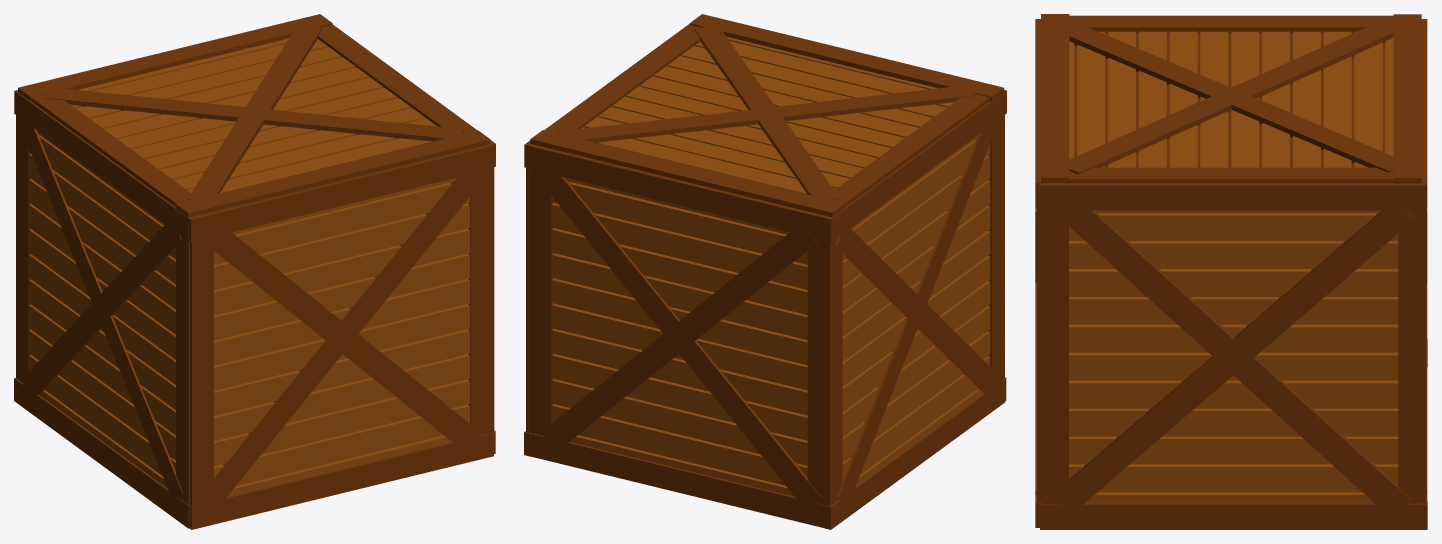
File: Caja.fbx
3 renders of one model, left to right at view 1: azimuth 30°, elevation 25°; view 2: azimuth 150°, elevation 25°; view 3: azimuth 270°, elevation 25°, orthographic. The views are drawn at different scales.
Visible parts, largest first — view 1: Cube.010; view 2: Cube.010; view 3: Cube.010.
Part boxes in pixels (x1,y1,x2,y2): Cube.010: (14,14,495,529); Cube.010: (524,14,1006,529); Cube.010: (1035,14,1427,529).
Size of the model in its own units: 211 by 207 by 210.
